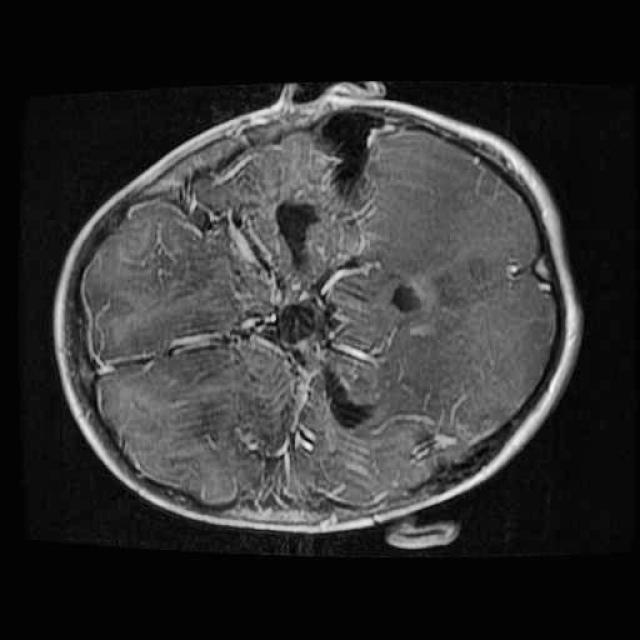Non-Tumor: (239, 178, 370, 301)
